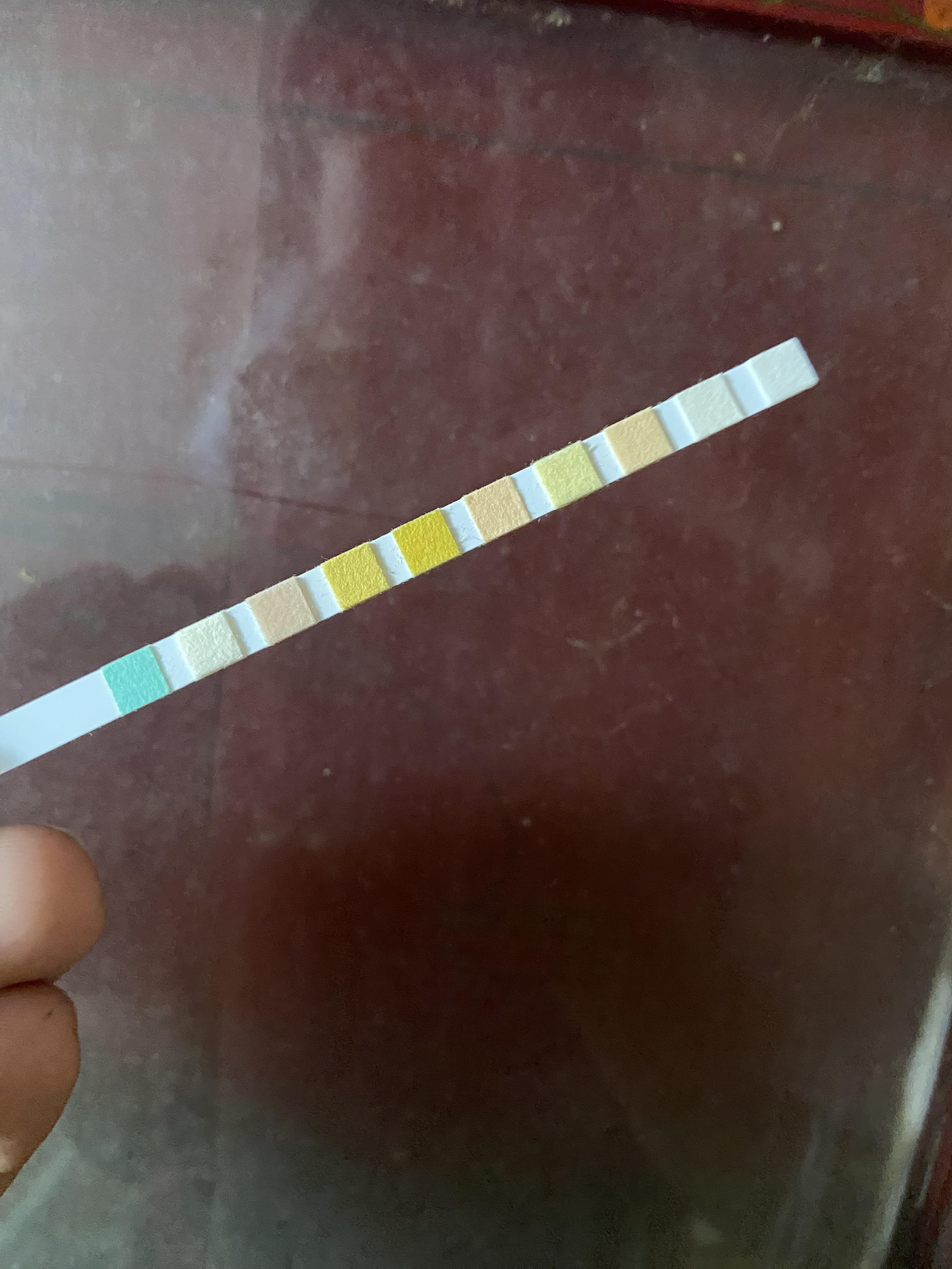Bilirubin: (187, 627, 229, 664)
Blood: (409, 521, 444, 564)
Glucose: (118, 659, 155, 700)
Ketone: (264, 592, 302, 630)
Leukocytes: (764, 353, 798, 393)
Nitrite: (692, 388, 727, 424)
Protein: (550, 454, 587, 496)
SpGravity: (338, 555, 373, 597)
Urobilinogen: (619, 421, 656, 460)
pH: (478, 491, 516, 529)
strip: (0, 337, 821, 774)
